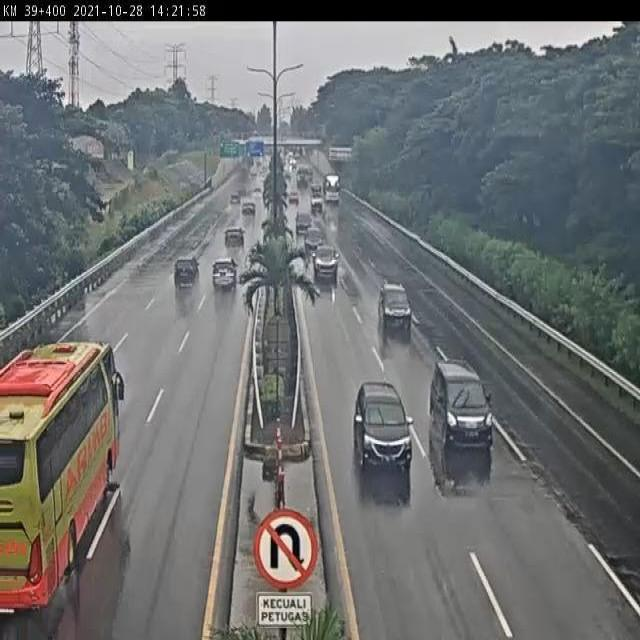big bus: (0, 343, 121, 605)
car: (428, 359, 496, 456), (350, 381, 415, 475), (377, 280, 414, 335), (172, 254, 201, 294), (311, 243, 340, 281), (211, 254, 238, 290), (305, 231, 328, 264), (224, 224, 245, 249), (295, 212, 314, 239)
